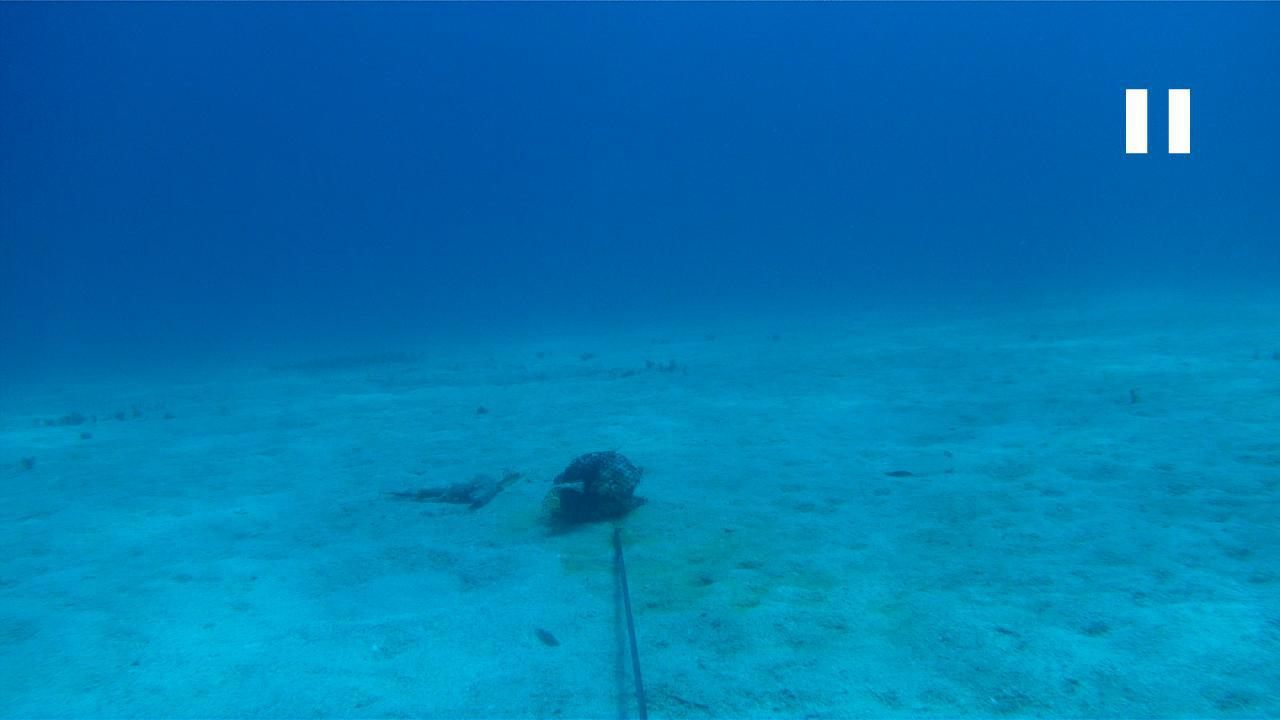bothus: (880, 442, 959, 479)
